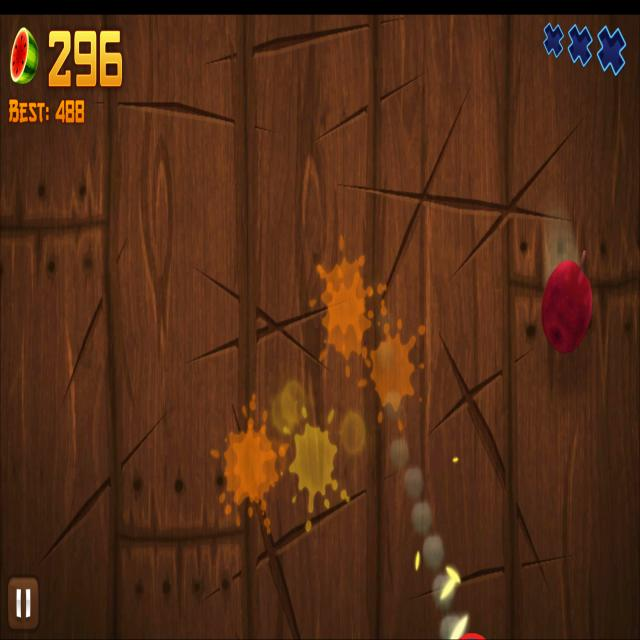fruit: (541, 259, 593, 355)
